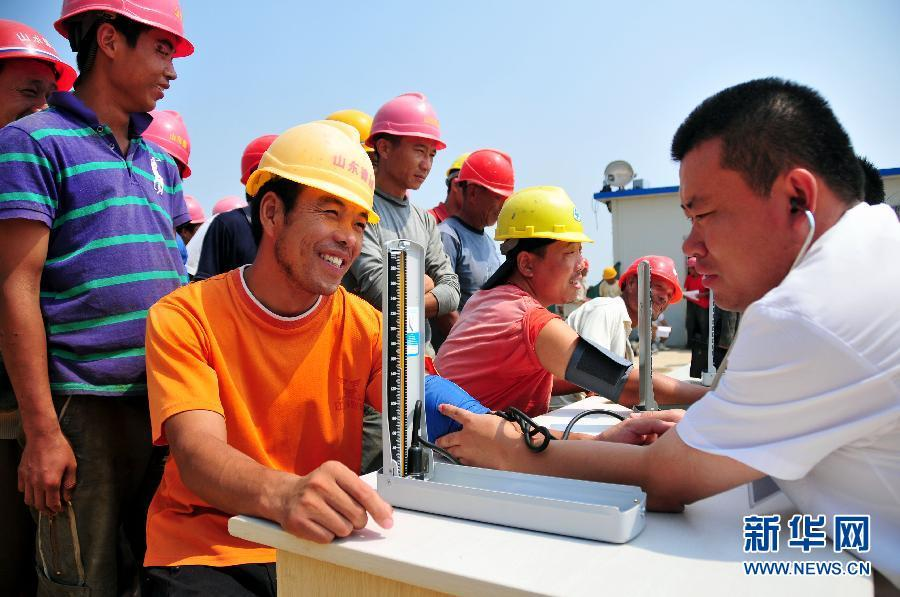helmet: (247, 121, 380, 228), (56, 1, 197, 58), (495, 186, 596, 244), (1, 20, 79, 92), (366, 92, 449, 151), (141, 110, 196, 181), (619, 256, 685, 305), (456, 150, 516, 200), (240, 133, 278, 187), (211, 194, 249, 218), (181, 195, 208, 223), (603, 267, 618, 282)
